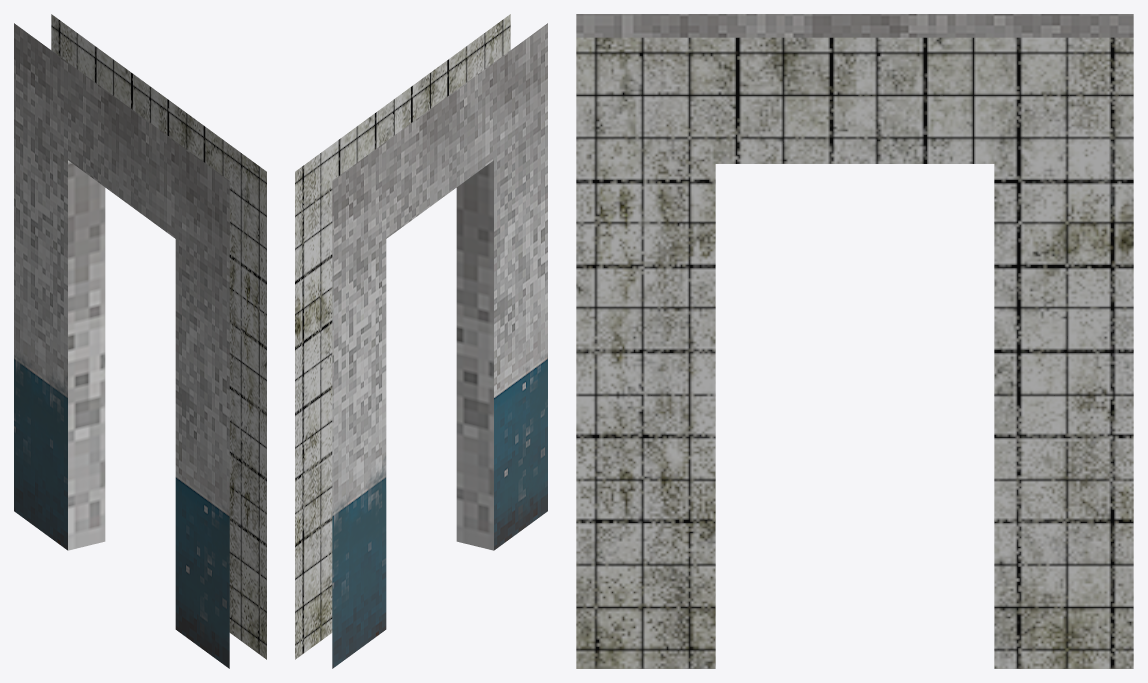
File: wall_doorway_double_01.fbx
The picture shows the model from 3 angles, left to right: view 1: azimuth 30°, elevation 25°; view 2: azimuth 150°, elevation 25°; view 3: azimuth 270°, elevation 25°; orthographic projection. The views are drawn at different scales.
Visible parts, largest first — view 1: wall_doorway_2m; view 2: wall_doorway_2m; view 3: wall_doorway_2m.
Boxes of the visible parts, x1,y1,x2,y2 form: wall_doorway_2m: (14, 14, 266, 668); wall_doorway_2m: (295, 14, 547, 668); wall_doorway_2m: (576, 14, 1133, 668).
Size of the model in its own units: 20 by 250 by 200.
Materials: 2 (2 with a texture image).
